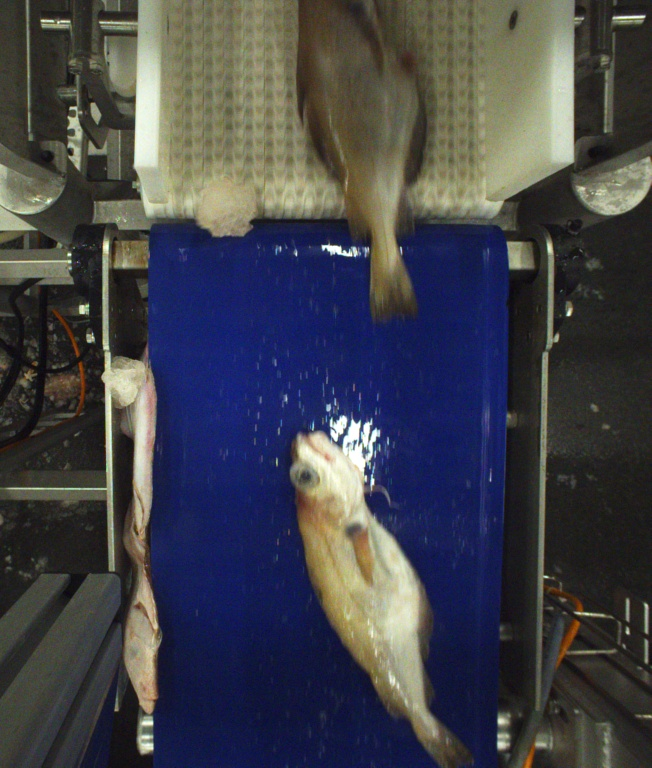BIB: (286, 429, 485, 768)
